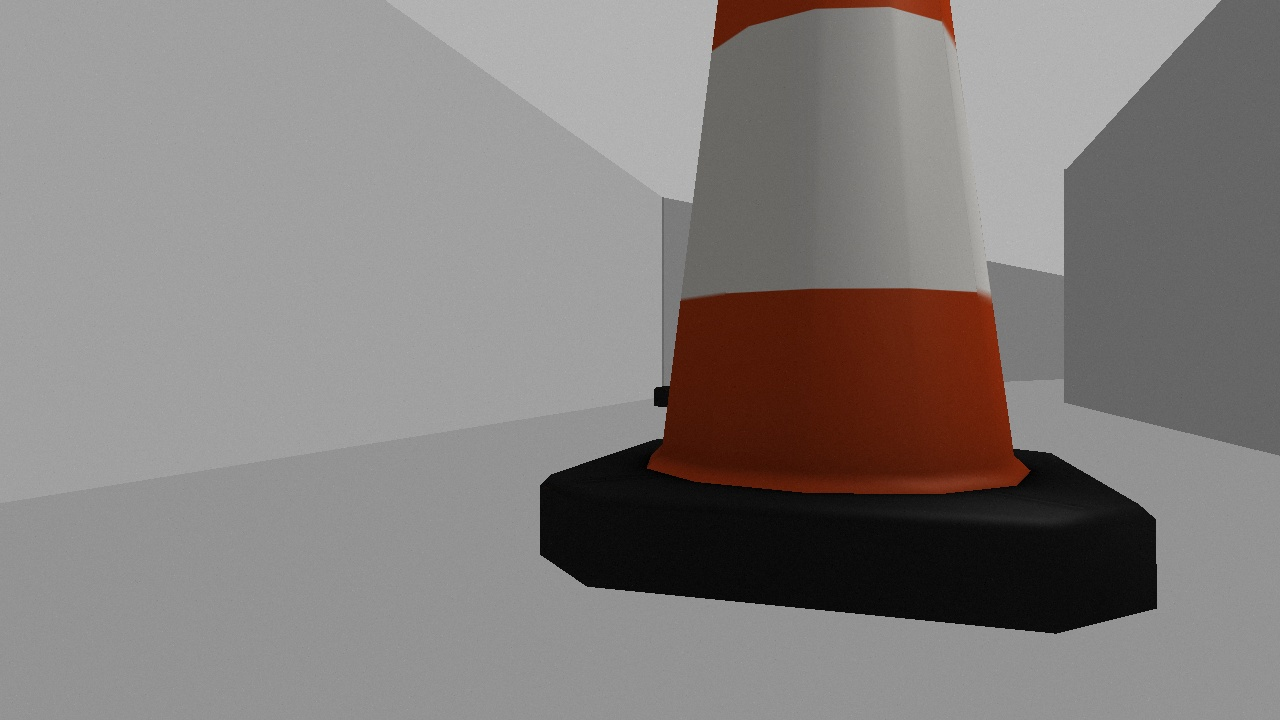barricade: (537, 1, 1159, 636)
